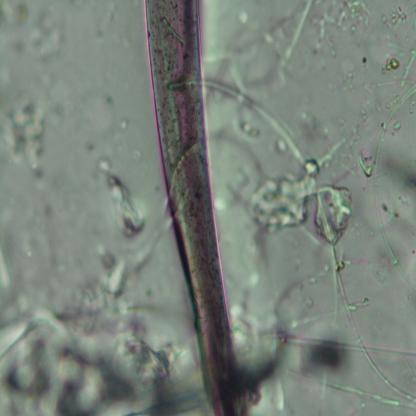Background material: (0, 284, 193, 416), (249, 158, 351, 242), (231, 309, 289, 407), (0, 89, 51, 183), (102, 156, 150, 239), (0, 1, 67, 60), (88, 242, 147, 301), (308, 125, 366, 182), (314, 1, 372, 53), (322, 53, 372, 101), (0, 220, 35, 280), (302, 331, 350, 372), (387, 149, 416, 203), (379, 4, 411, 35), (248, 271, 268, 310), (52, 83, 69, 126), (231, 6, 252, 30), (361, 153, 374, 182), (380, 55, 398, 74), (388, 116, 404, 135), (84, 134, 98, 154), (101, 90, 114, 111), (118, 119, 129, 131)
Glass filter fibre: (329, 242, 415, 401), (206, 73, 307, 166), (374, 79, 416, 298), (279, 364, 416, 410), (285, 332, 416, 364), (280, 2, 314, 70), (401, 50, 416, 90)
Microfibre: (143, 1, 245, 415)
